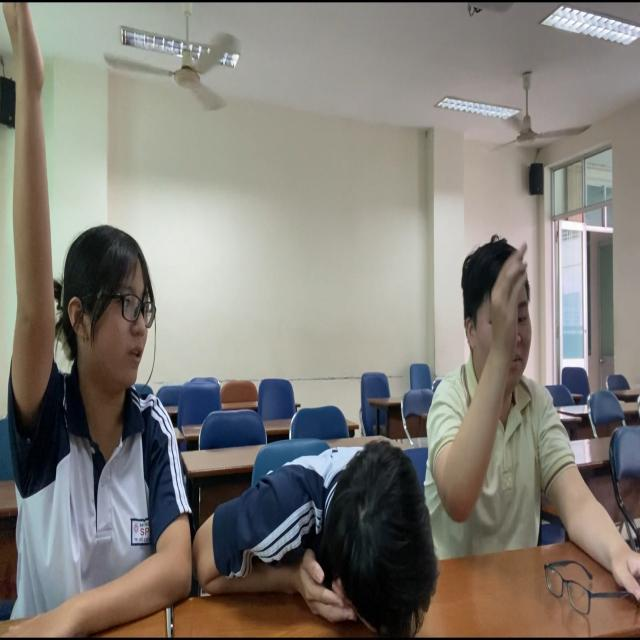raise_hand: (1, 88, 160, 620), (432, 233, 595, 568)
sleep: (202, 427, 423, 635)
